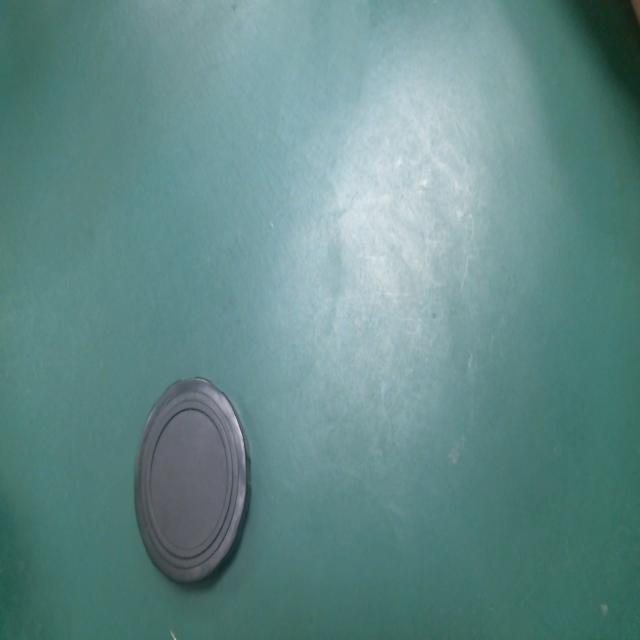cover: (127, 362, 260, 597)
